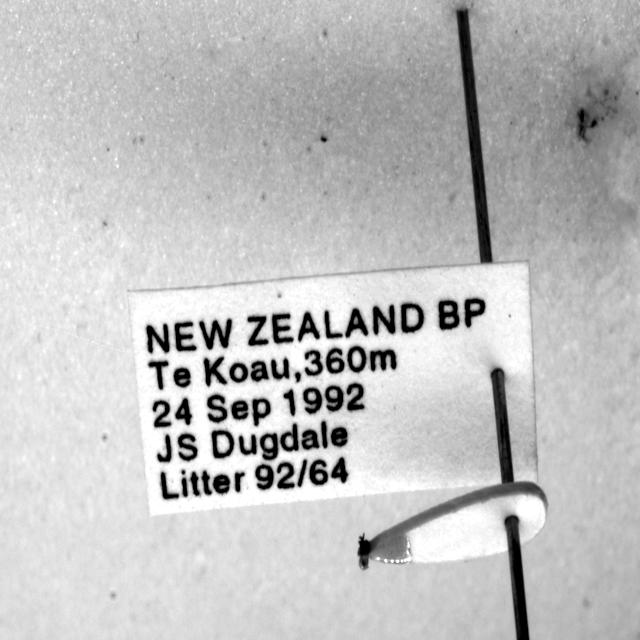typed_label: (129, 262, 538, 514)
